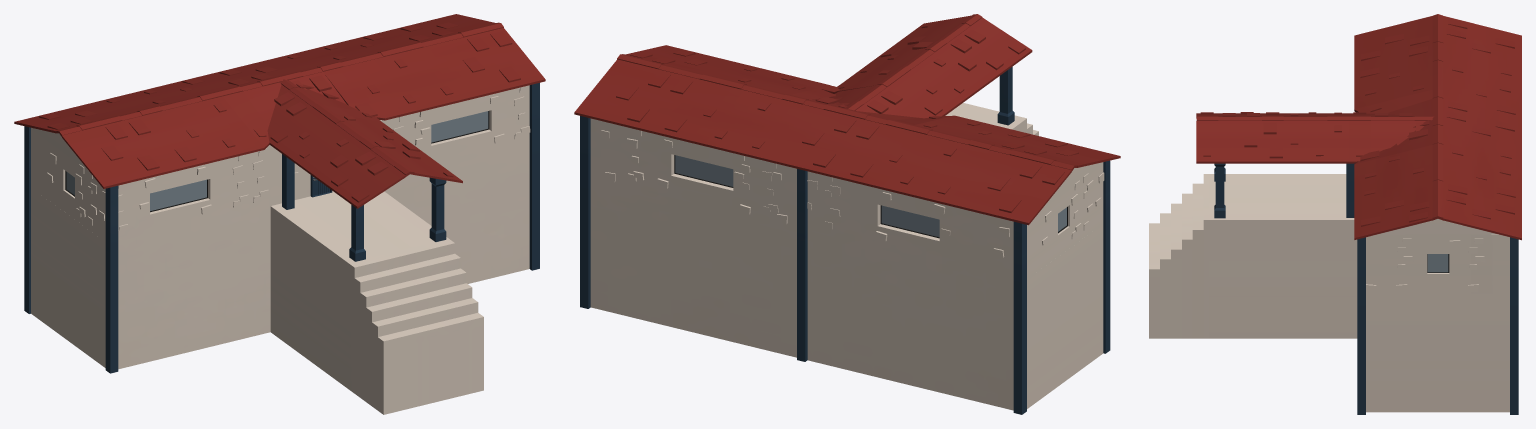
3 views of the same model, side by side, from view 1: azimuth 30°, elevation 25°; view 2: azimuth 150°, elevation 25°; view 3: azimuth 270°, elevation 25° (orthographic). The views are drawn at different scales.
Parts seen in each view (by area): view 1: 2.001; view 2: 2.001; view 3: 2.001.
Part boxes in pixels (x1=…): 2.001: x1=14, y1=14, x2=545, y2=414; 2.001: x1=574, y1=14, x2=1120, y2=414; 2.001: x1=1149, y1=14, x2=1521, y2=414.
Size of the model in its own units: 44.02 by 20.31 by 34.19.
4 materials, 1 textured.
